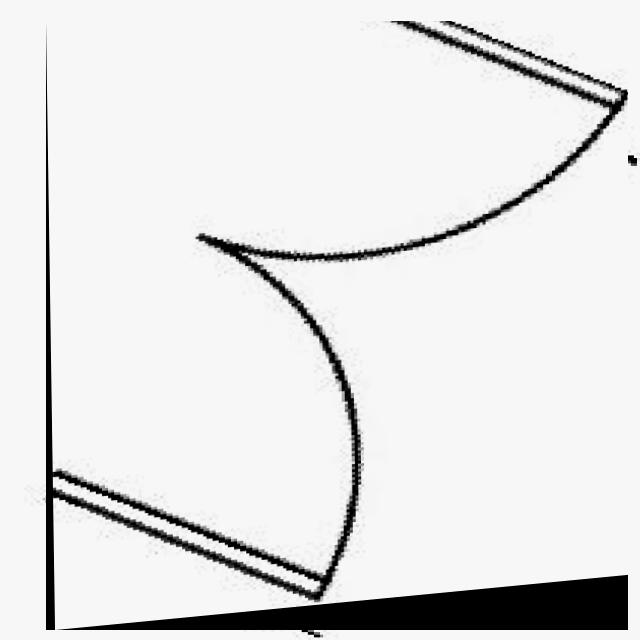door: (46, 21, 628, 630)
